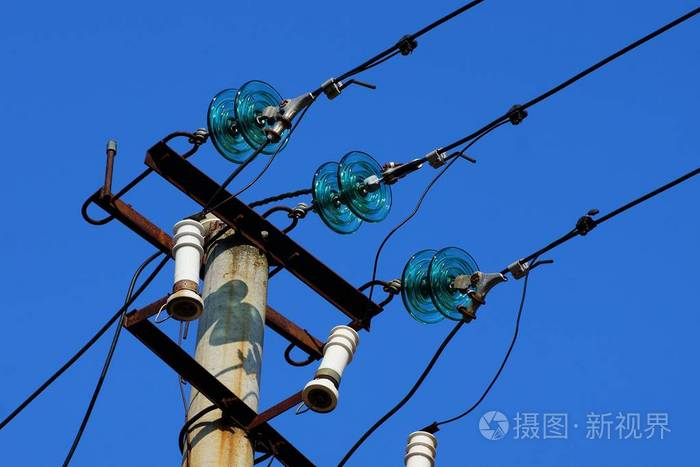insulator: (208, 79, 293, 166), (312, 149, 395, 236), (403, 246, 482, 323)
